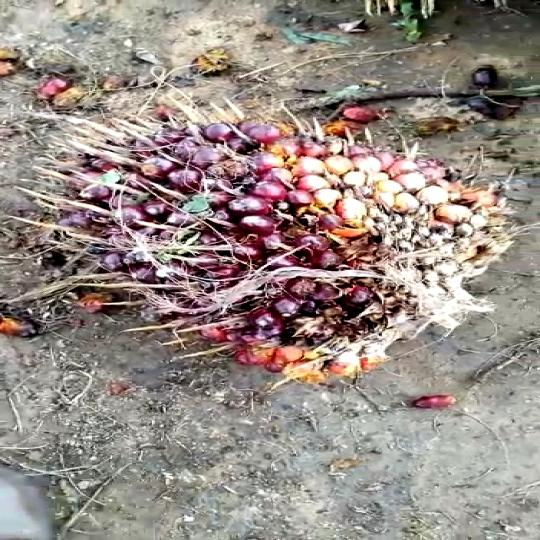masak: (50, 120, 513, 370)
